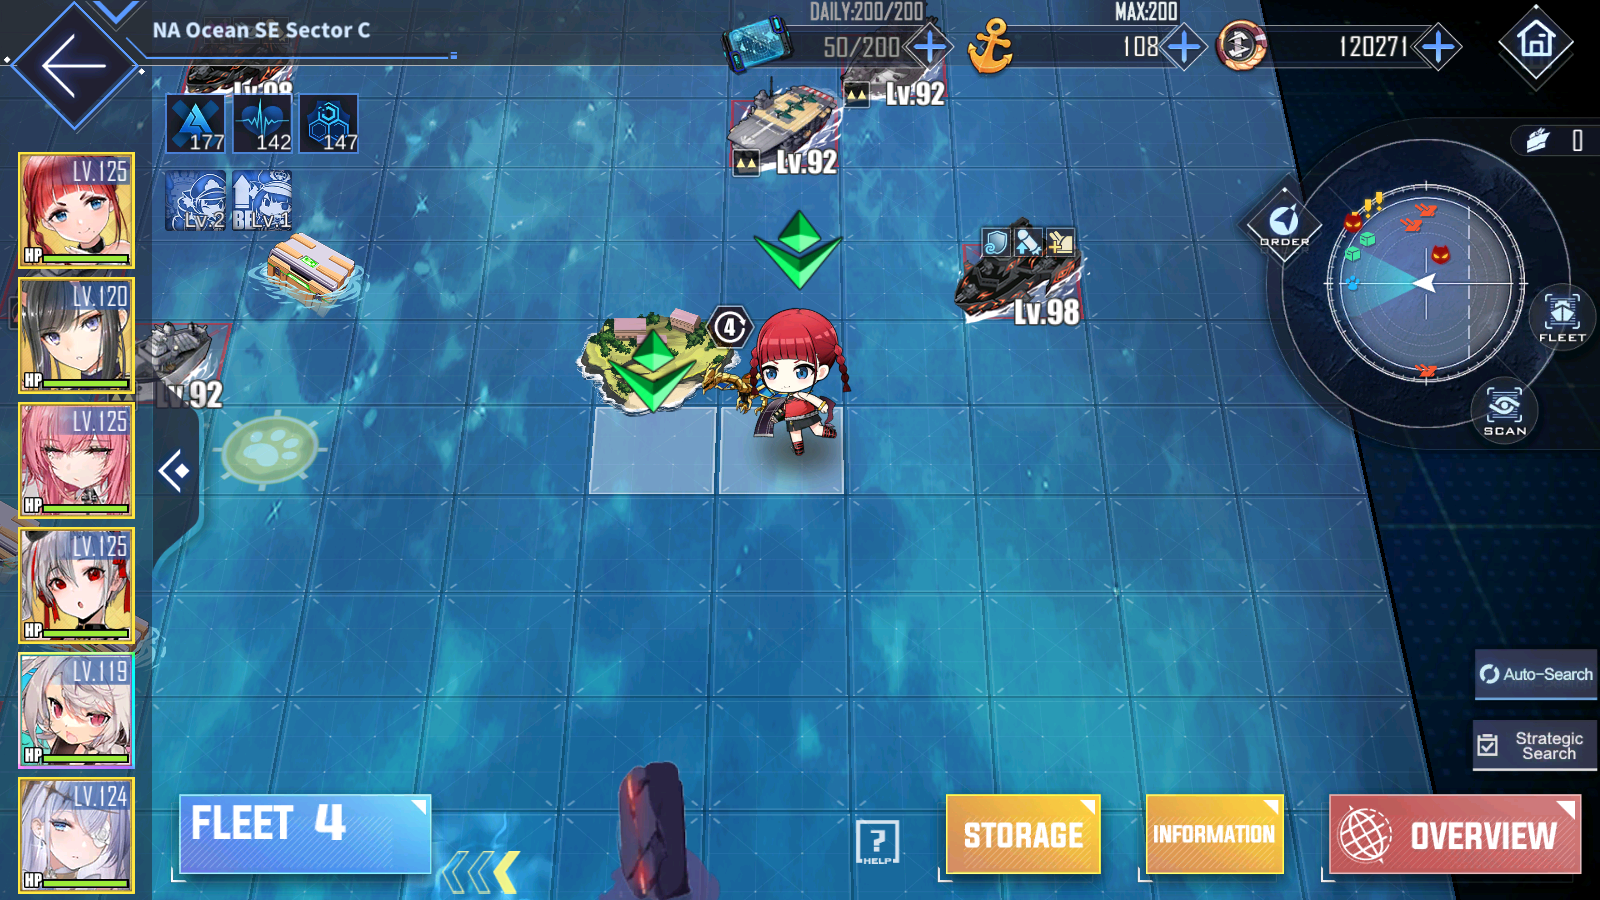ally: (715, 211, 849, 456)
enemy: (954, 215, 1080, 324), (727, 84, 838, 171), (840, 15, 946, 103), (118, 321, 224, 407), (180, 22, 293, 100)
